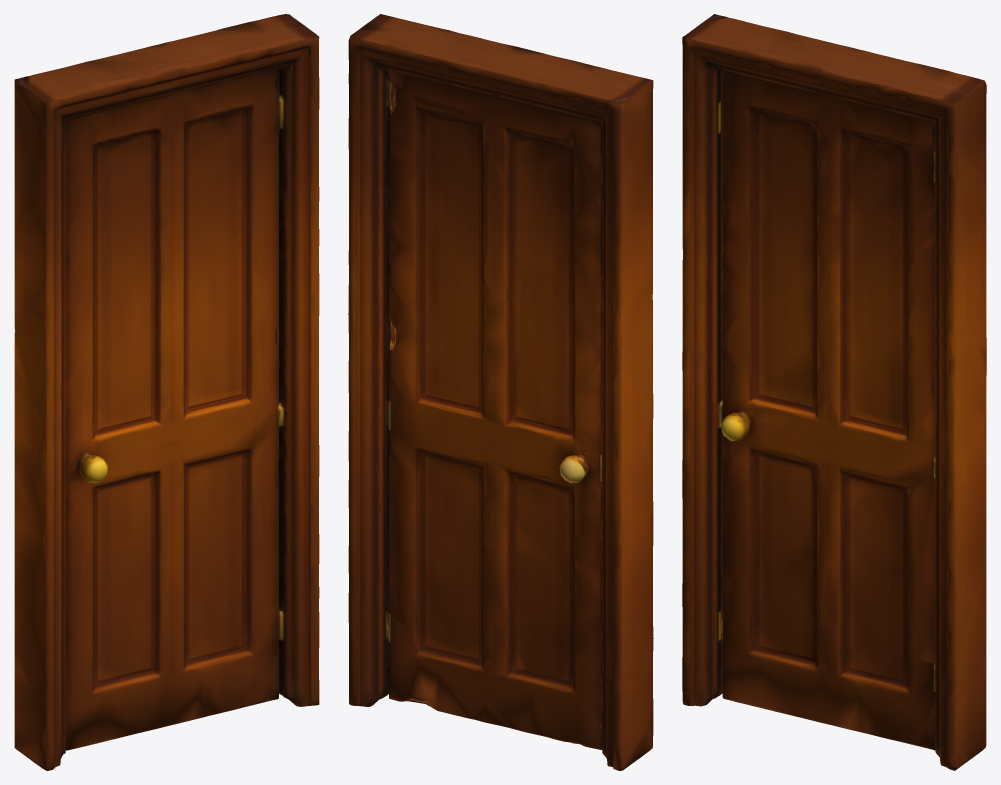
File: kapi.fbx
The picture shows the model from 3 angles, left to right: view 1: azimuth 30°, elevation 25°; view 2: azimuth 150°, elevation 25°; view 3: azimuth 330°, elevation 25°; orthographic projection.
Parts seen in each view (by area): view 1: Mesh_0; view 2: Mesh_0; view 3: Mesh_0.
Part boxes in pixels (x1,y1,x2,y2): Mesh_0: (14, 14, 319, 770); Mesh_0: (348, 14, 653, 770); Mesh_0: (682, 14, 986, 770).
Size of the model in its own units: 81.77 by 191 by 20.99.
Materials: 1 (1 with a texture image).
